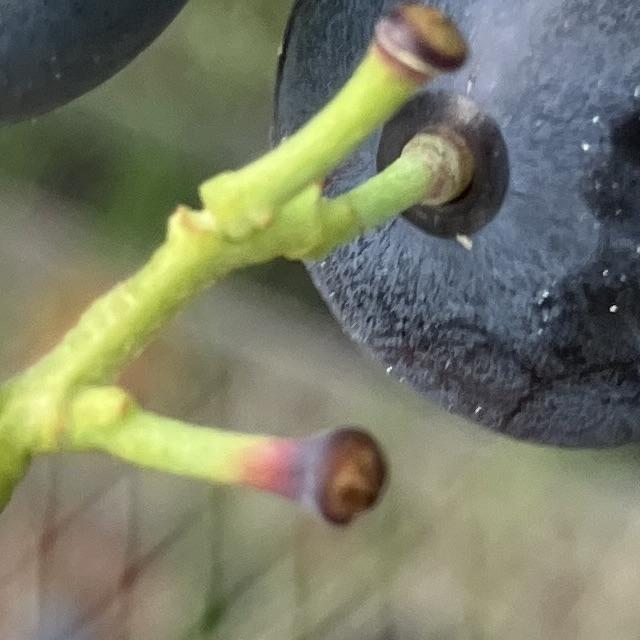Blueberries: (267, 0, 640, 452)
